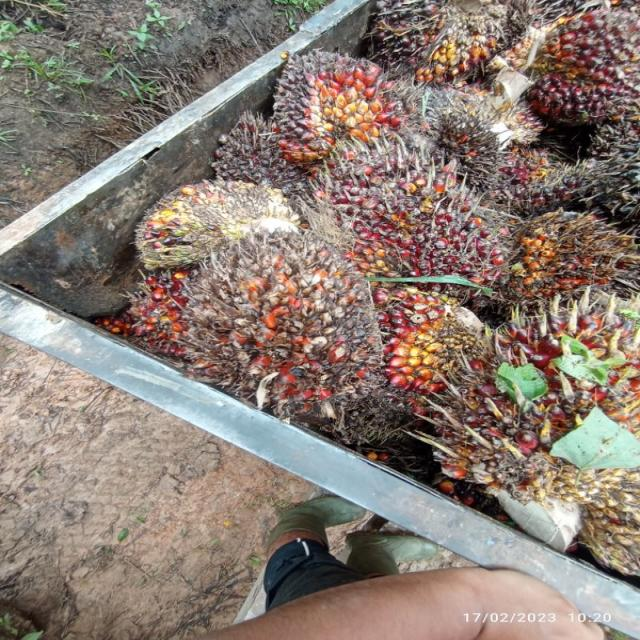fraksi 00: (250, 39, 439, 168), (168, 100, 317, 194), (366, 0, 520, 89)
fraksi 1: (417, 293, 640, 526), (293, 145, 520, 306), (354, 261, 515, 411), (522, 10, 640, 129)
fraksi 4: (159, 228, 405, 434), (505, 182, 640, 298)
